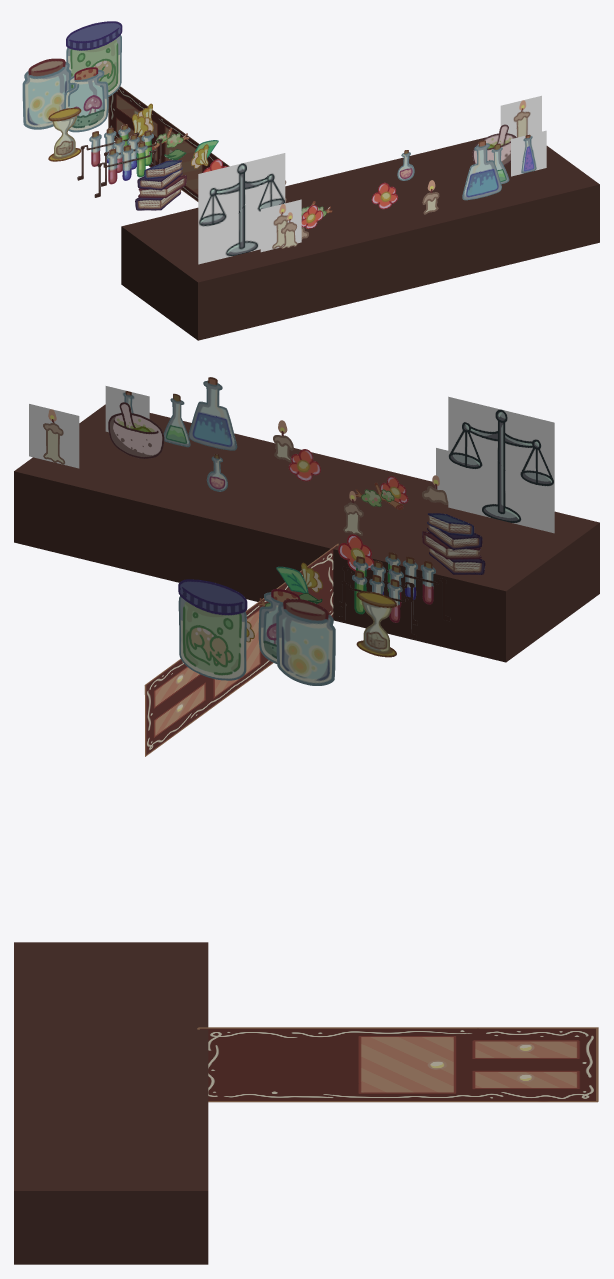
The model's file is Potion_table.fbx.
3 views of the same model, one above another, from view 1: azimuth 30°, elevation 25°; view 2: azimuth 150°, elevation 25°; view 3: azimuth 270°, elevation 25° (orthographic). The views are drawn at different scales.
Visible parts, largest first — view 1: pCube5, pPlane95, pPlane140, pPlane103, pPlane104, pPlane105, pPlane93, pPlane146, pPlane96, pPlane92, pPlane101, pPlane100 (+5 smaller); view 2: pCube5, pPlane95, pPlane140, pPlane103, pPlane104, pPlane93, pPlane92, pPlane94, pPlane96, pPlane102, pPlane144, pPlane100 (+7 smaller); view 3: pCube5, pPlane140.
Boxes of the visible parts, box(x1,y1,x2,y2) form: pCube5: box(121, 137, 599, 340); pPlane95: box(198, 153, 285, 264); pPlane140: box(108, 86, 229, 201); pPlane103: box(66, 21, 122, 96); pPlane104: box(22, 58, 71, 129); pPlane105: box(64, 67, 108, 132); pPlane93: box(135, 160, 186, 210); pPlane146: box(260, 199, 301, 252); pPlane96: box(462, 140, 501, 200); pPlane92: box(500, 95, 541, 137); pPlane101: box(511, 130, 546, 176); pPlane100: box(94, 141, 156, 197); pCube5: box(14, 404, 599, 662); pPlane95: box(448, 396, 554, 533); pPlane140: box(144, 543, 338, 756); pPlane103: box(178, 579, 247, 680); pPlane104: box(276, 599, 335, 685); pPlane93: box(422, 513, 485, 574); pPlane92: box(29, 404, 79, 468); pPlane94: box(108, 402, 164, 458); pPlane96: box(188, 377, 237, 450); pPlane102: box(356, 591, 396, 657); pPlane144: box(337, 570, 416, 639); pPlane100: box(382, 552, 450, 621); pCube5: box(14, 942, 208, 1264); pPlane140: box(197, 1027, 598, 1102).
Size of the model in its own units: 7.29 by 3.28 by 7.2.
23 materials, 22 textured.
